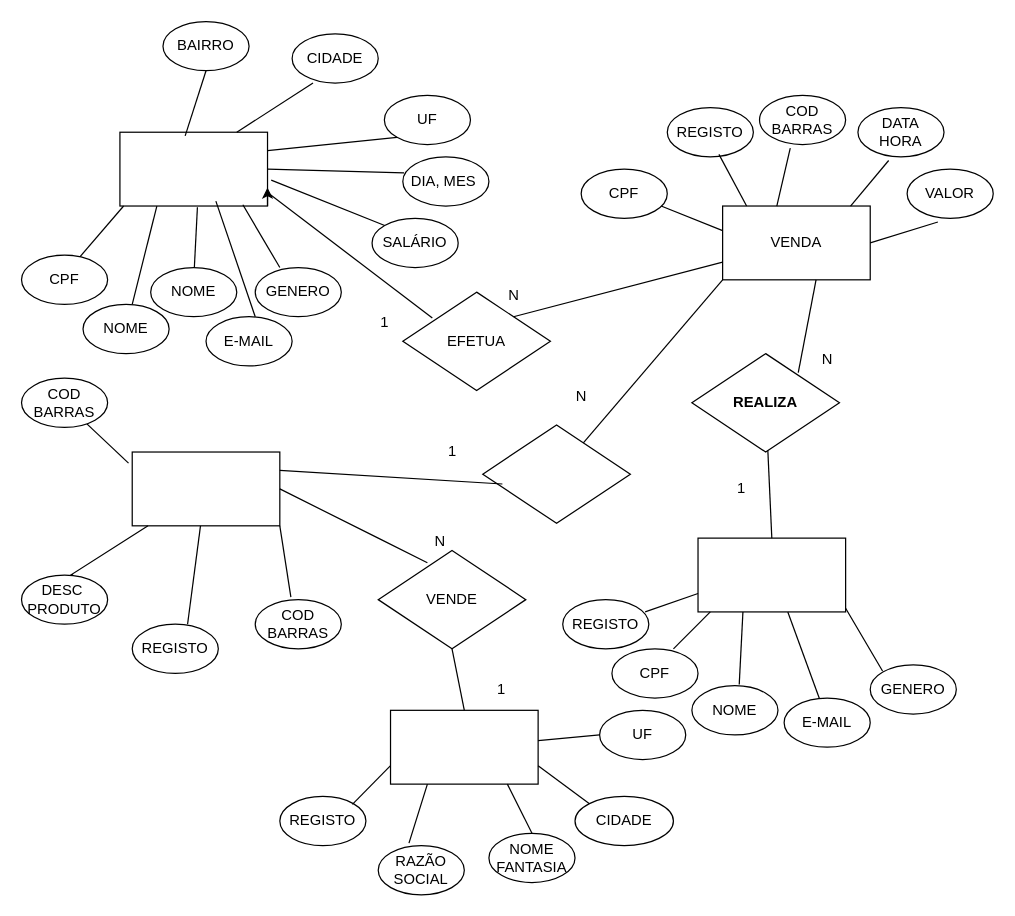
The diagram is 1015 pixels wide and 916 high, and some of its shapes have lost their labels. Here are the shapes that lost their labels. From the top down, the centre of each, then its label:
At (193,168): "CLIENTE".
At (205,488): "PRODUTO".
At (556,473): "REGISTRO DE".
At (771,574): "VENDEDOR".
At (463,746): "FORNECEDOR".
